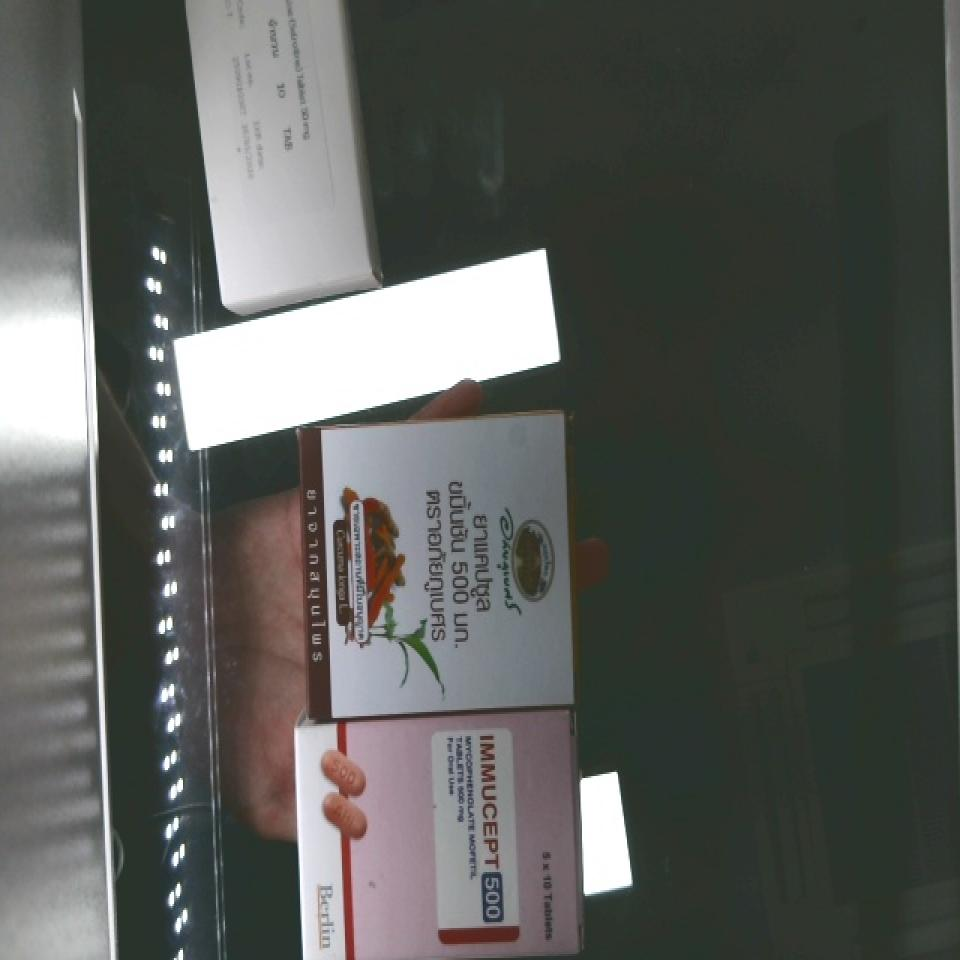medicine_box: (295, 409, 574, 716), (295, 717, 583, 958), (184, 0, 373, 311)
medicine_label_obb: (404, 458, 505, 672), (461, 726, 519, 934)
